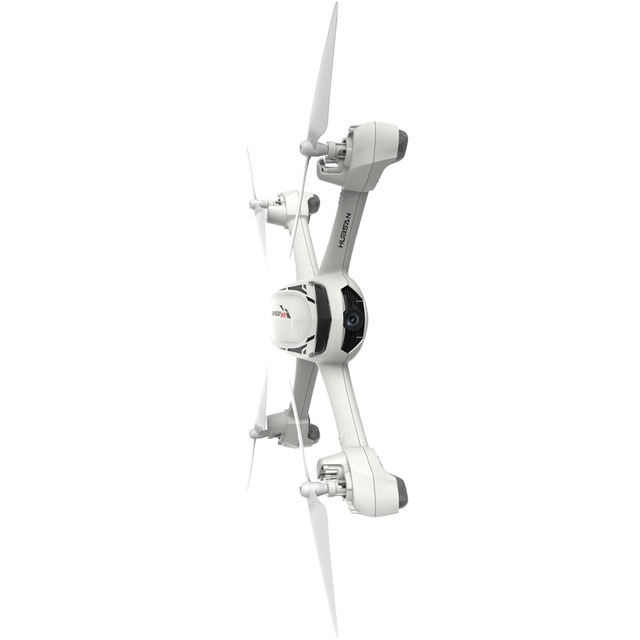drone: (242, 0, 408, 604)
